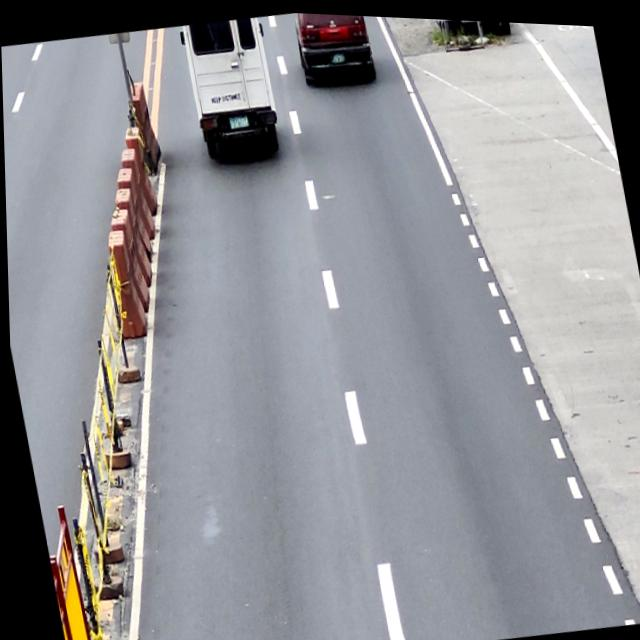Car: (177, 11, 286, 160), (290, 10, 378, 90)
License-Plate: (228, 111, 249, 129), (329, 48, 348, 64)
